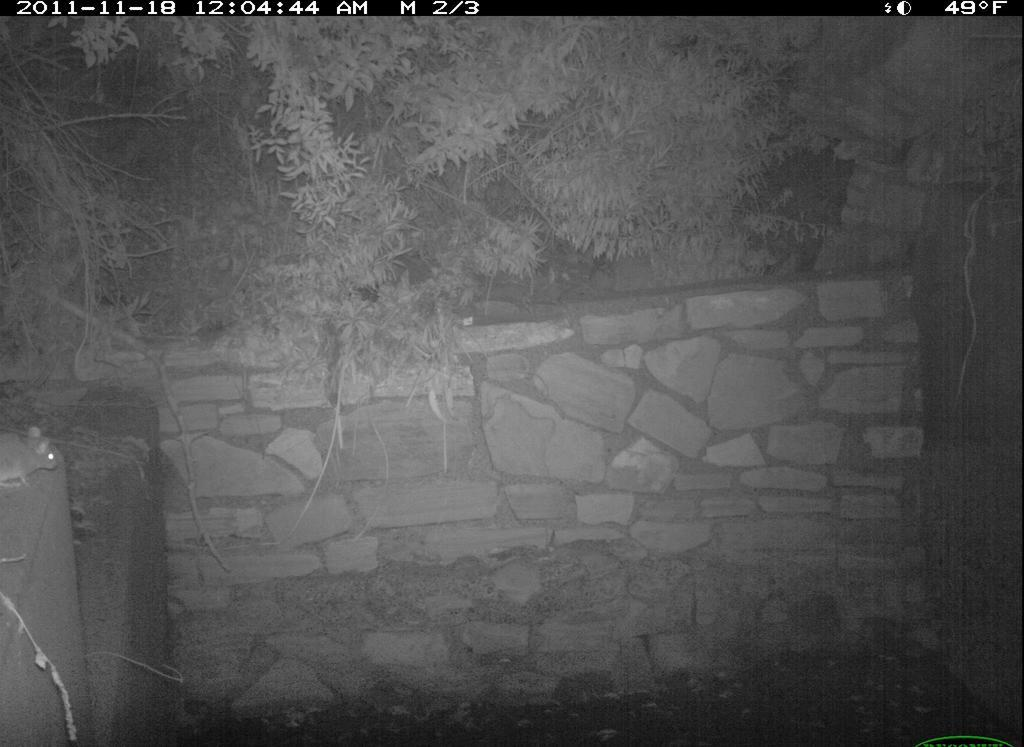rodent: (3, 422, 67, 495)
